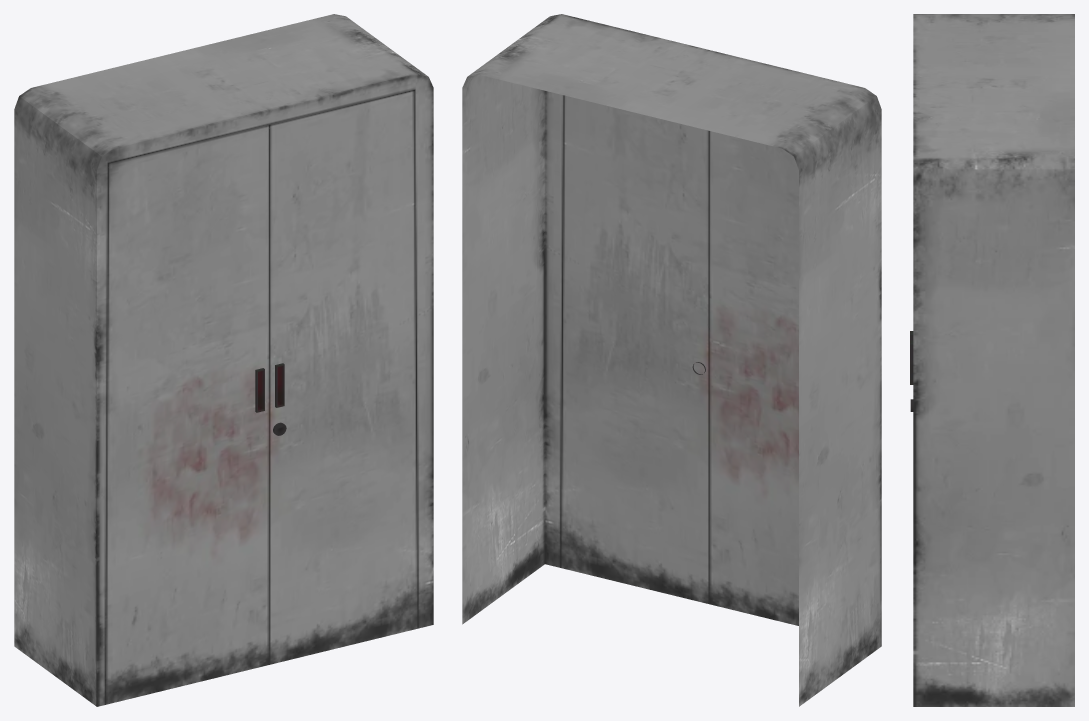
The model's file is med_cabinet.glb.
3 views of the same model, side by side, from view 1: azimuth 30°, elevation 25°; view 2: azimuth 150°, elevation 25°; view 3: azimuth 270°, elevation 25° (orthographic). The views are drawn at different scales.
Parts seen in each view (by area): view 1: med_cabinet; view 2: med_cabinet; view 3: med_cabinet.
Part boxes in pixels (box(x1,y1,x2,y2)): med_cabinet: box(14, 14, 433, 706); med_cabinet: box(462, 14, 881, 706); med_cabinet: box(910, 14, 1074, 706).
Size of the model in its own units: 1.25 by 1.97 by 0.5446.
Materials: 1 (1 with a texture image).
